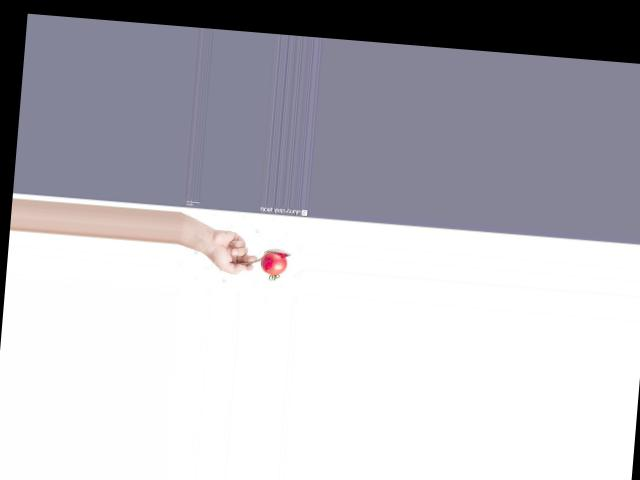tomato: (259, 251, 287, 276)
